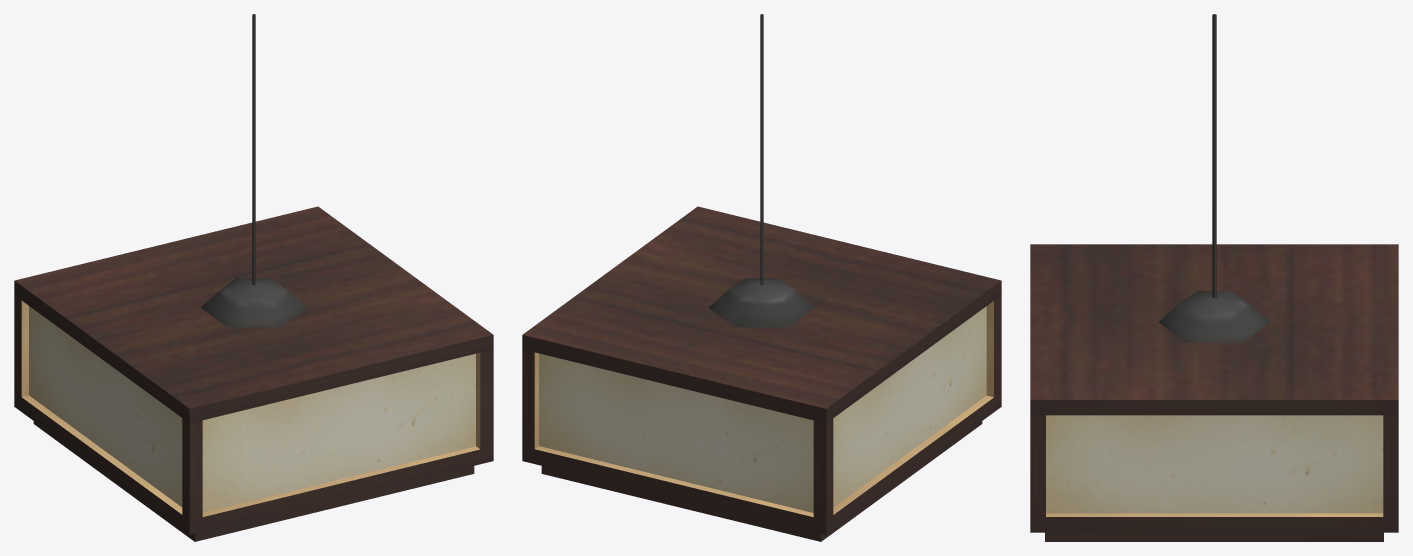
The model's file is PendantLight01.fbx.
3 views of the same model, side by side, from view 1: azimuth 30°, elevation 25°; view 2: azimuth 150°, elevation 25°; view 3: azimuth 270°, elevation 25° (orthographic). The views are drawn at different scales.
Visible parts, largest first — view 1: PendantLight01; view 2: PendantLight01; view 3: PendantLight01.
Part boxes in pixels (x1,y1,x2,y2): PendantLight01: [14, 14, 493, 541]; PendantLight01: [522, 14, 1001, 541]; PendantLight01: [1030, 14, 1398, 541].
Size of the model in its own units: 46 by 62.81 by 46.
Materials: 2 (2 with a texture image).
